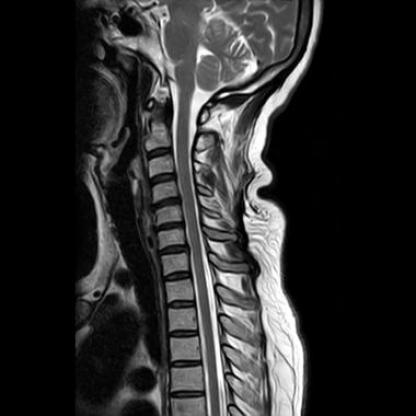Disc Bulgerotation: (154, 220, 184, 234)
Disc Protrusionrotation: (156, 243, 189, 259), (151, 196, 182, 212)
